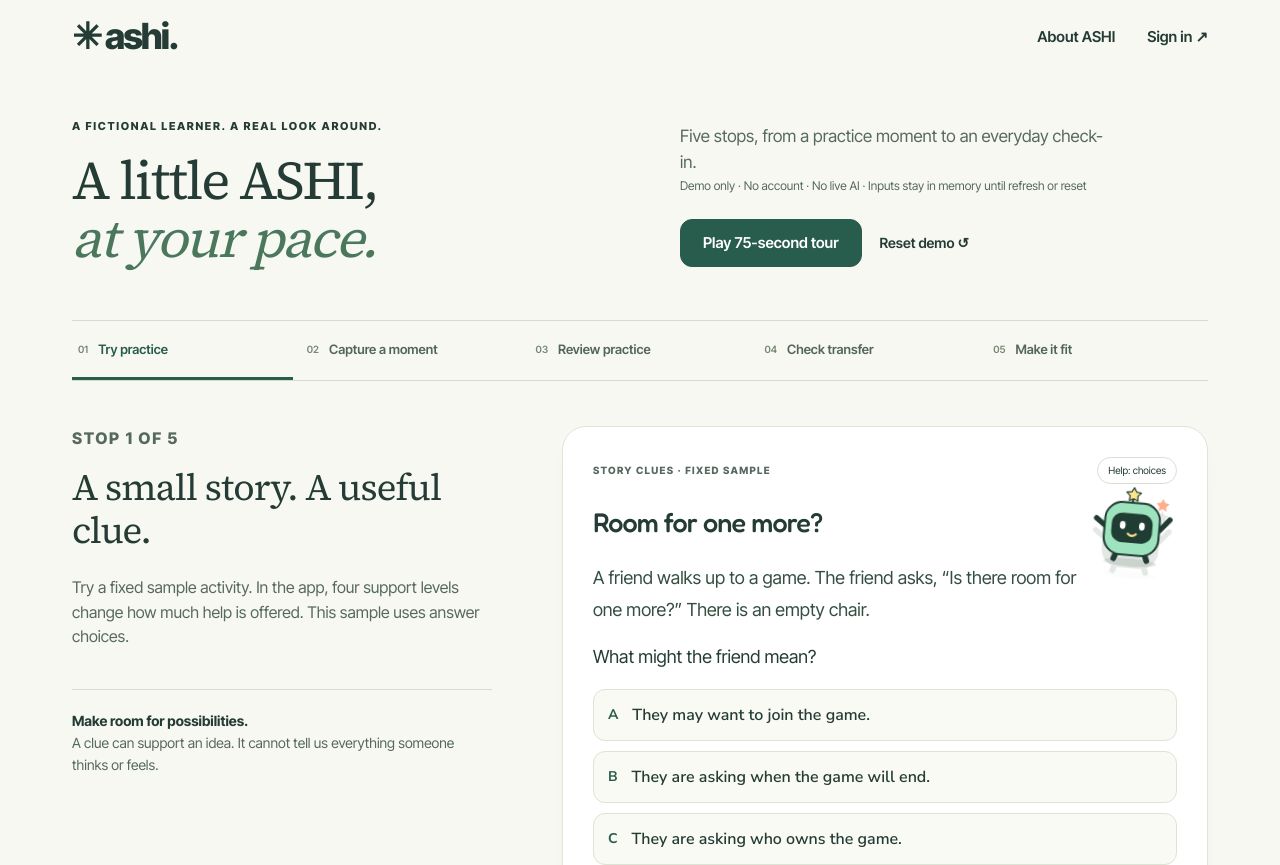
Test: finishes the timed five-stop tour after 75 seconds
The width and height of the screenshot is (1280, 865).
Click the button "Play 75-second tour": (771, 243) [680,219,862,267]
Wait 75000 ms
(page scrolled)
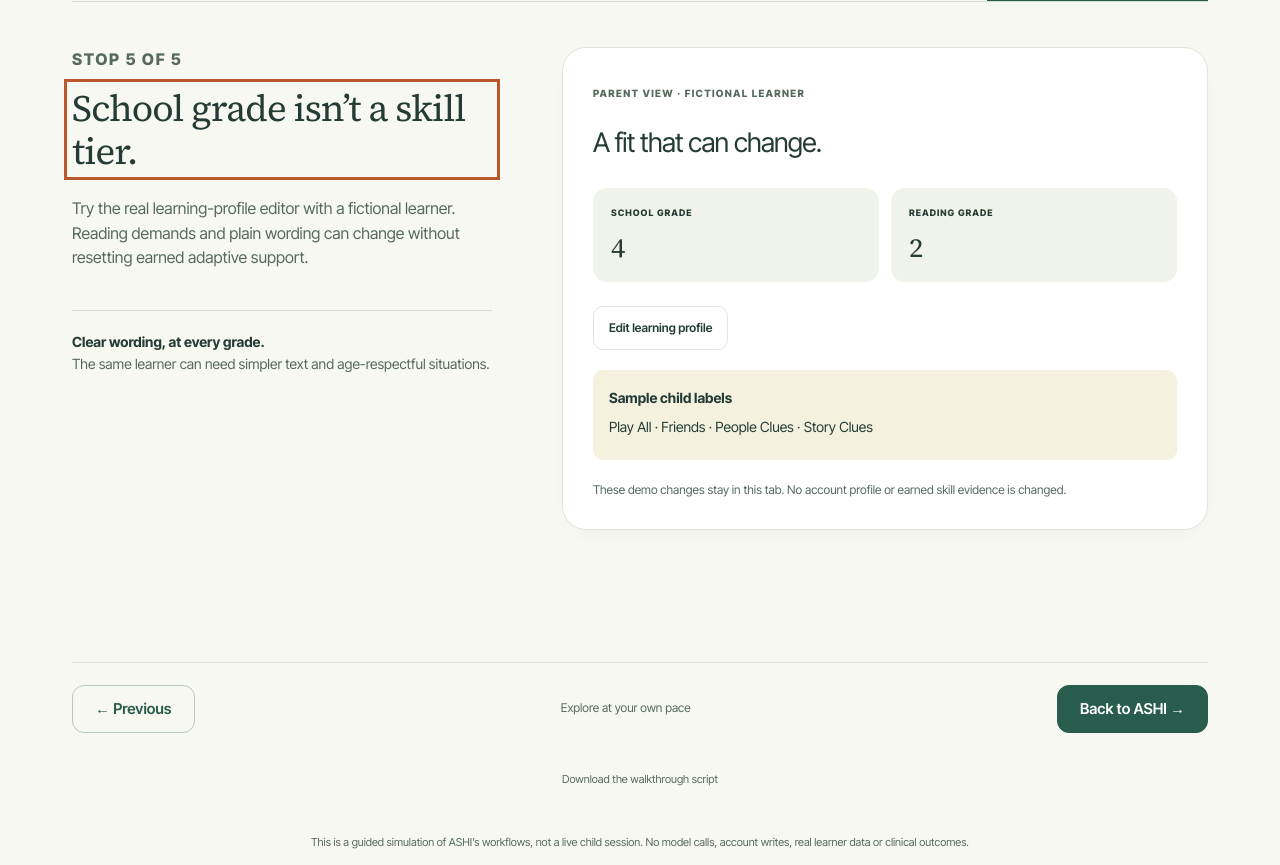
Result: the heading "School grade isn’t a skill tier." is shown at [72,88,492,172]
Result: the link "Back to ASHI →" is shown at [1057,685,1208,733]
